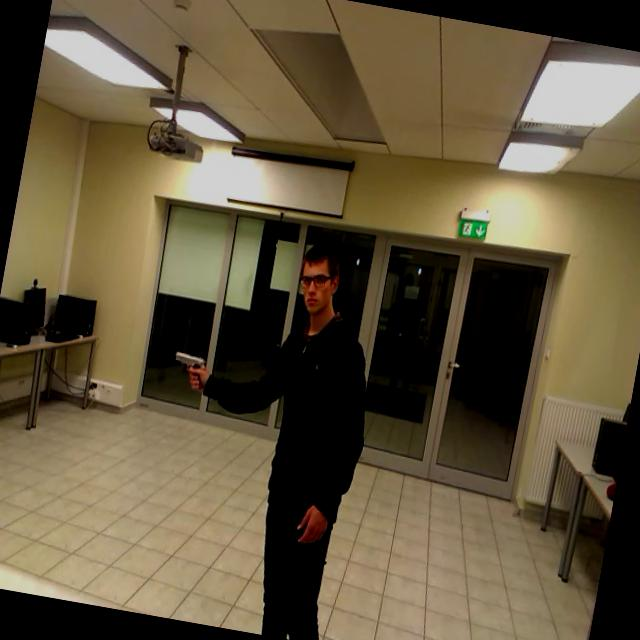handgun: (156, 329, 218, 412)
